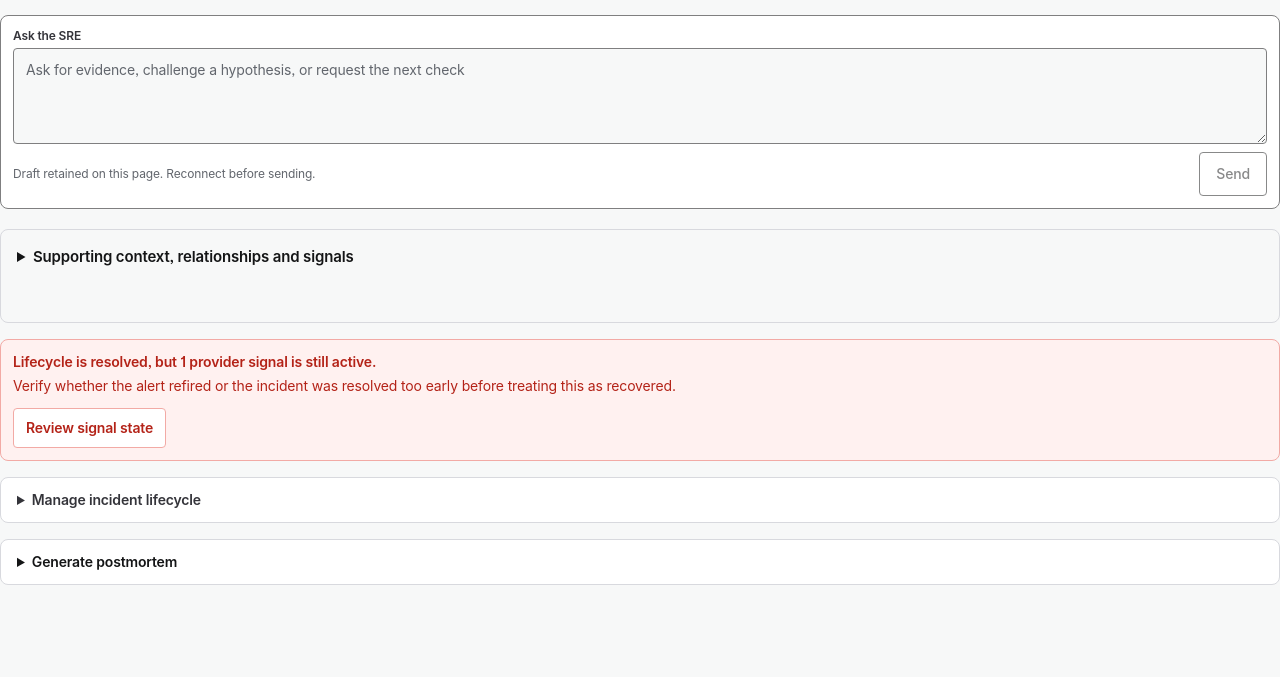
Test: incident response workspace › flags a terminal lifecycle while a provider signal is still active
This screenshot has width=1280, height=677.
(page scrolled)
Expected: the message shows "Lifecycle is resolved, but 1 provider signal is still active", [0,338,1279,460]
Click the button "Review signal state" at coordinates (90, 428), box [13,408,166,448]
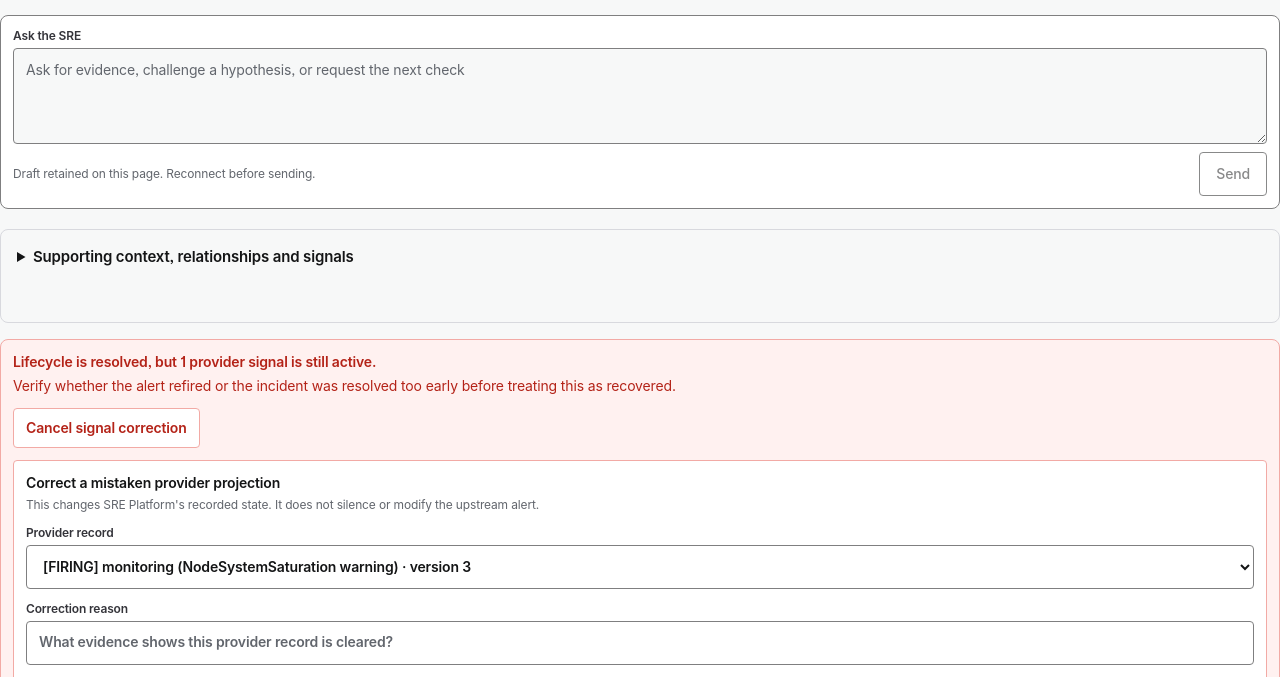
Expected: the text "Correct a mistaken provider projection" is shown, [26,474,280,490]
Type "The provider recovery message was misclassified." into the field labelled "Correction reason" at coordinates (640, 642), box [26,620,1254,664]
(page scrolled)
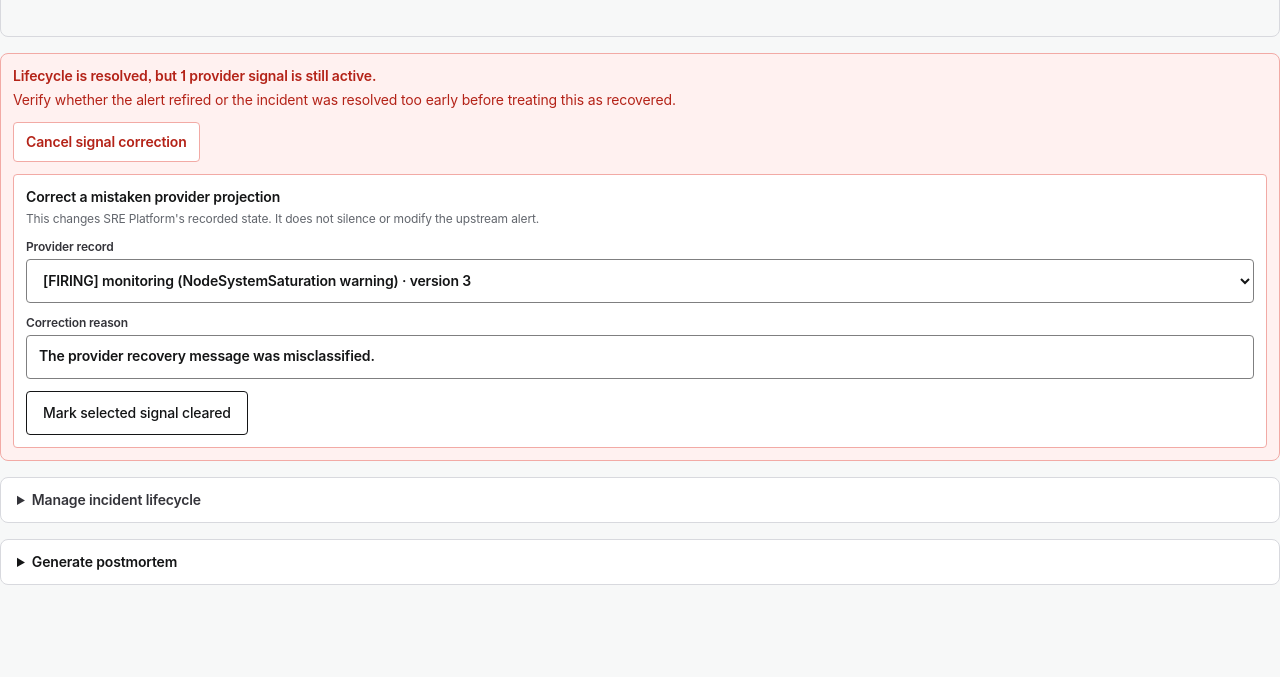
Click the button "Mark selected signal cleared" at coordinates (137, 412), box [26,390,248,434]
(page scrolled)
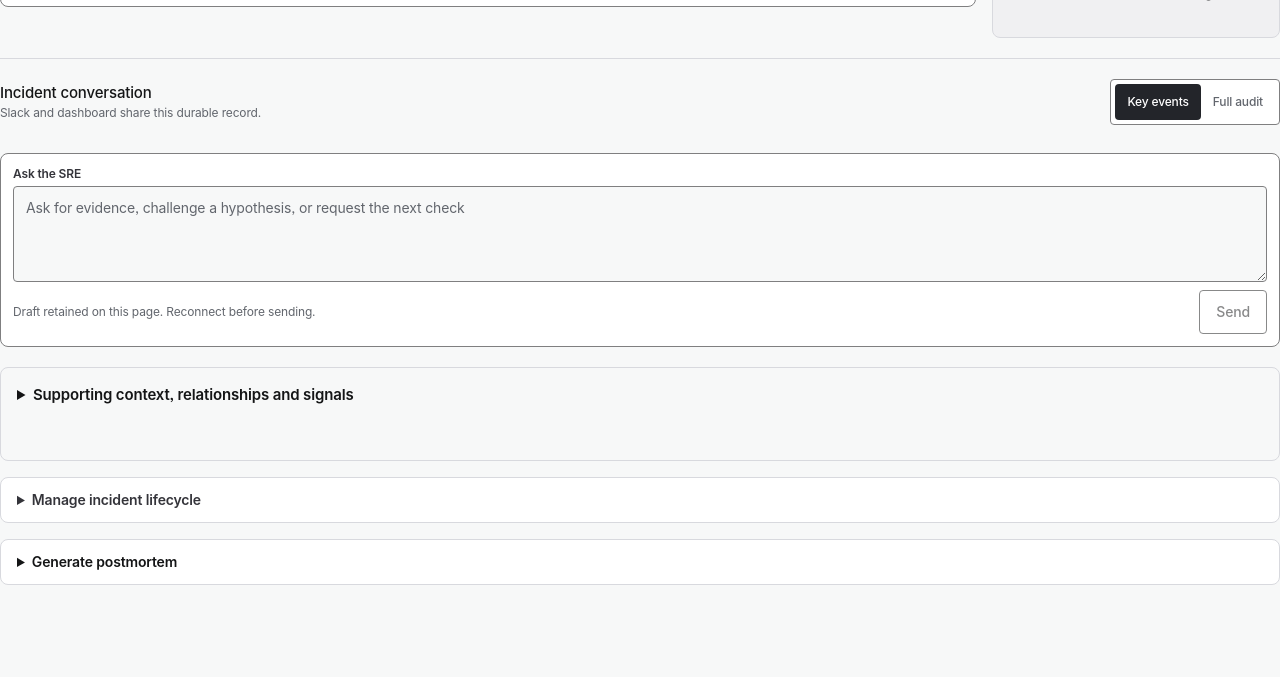
Expected: the text "provider signal is still active" is gone
